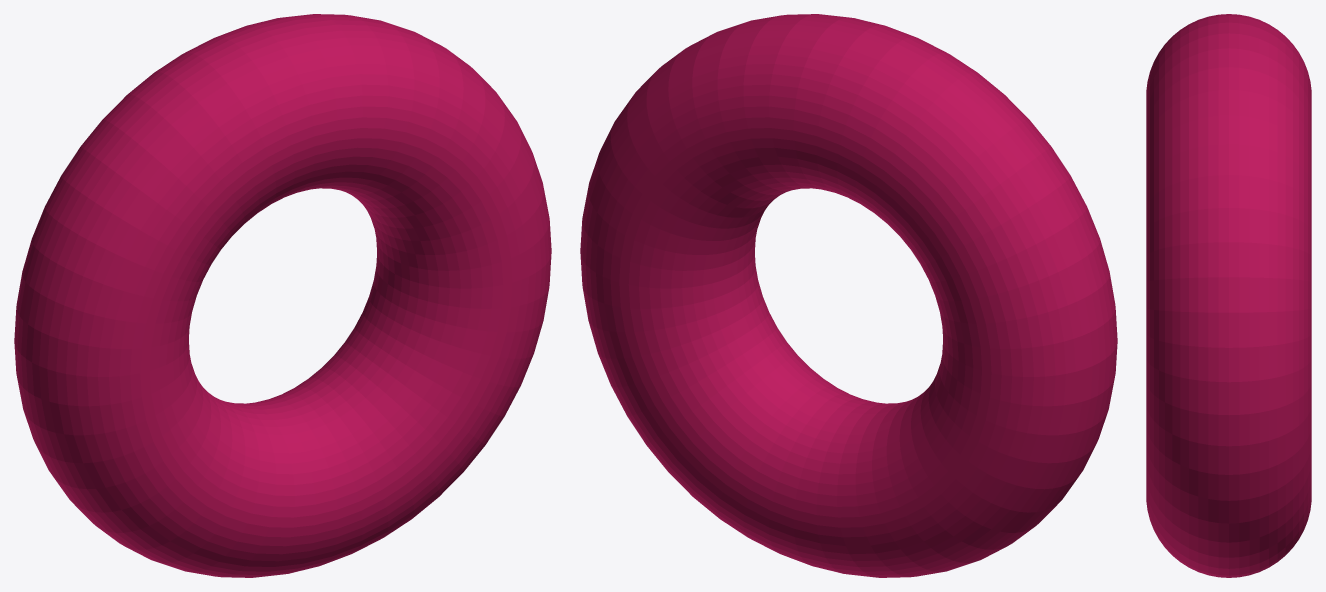
3 renders of one model, left to right at view 1: azimuth 30°, elevation 25°; view 2: azimuth 150°, elevation 25°; view 3: azimuth 270°, elevation 25°, orthographic. The views are drawn at different scales.
Visible parts, largest first — view 1: world; view 2: world; view 3: world.
Part boxes in pixels (bbox=[...]): world: bbox=[14, 14, 551, 577]; world: bbox=[580, 14, 1117, 577]; world: bbox=[1146, 14, 1311, 577].
Bounding box in the file's own units: 34 × 33.93 × 9.98.
